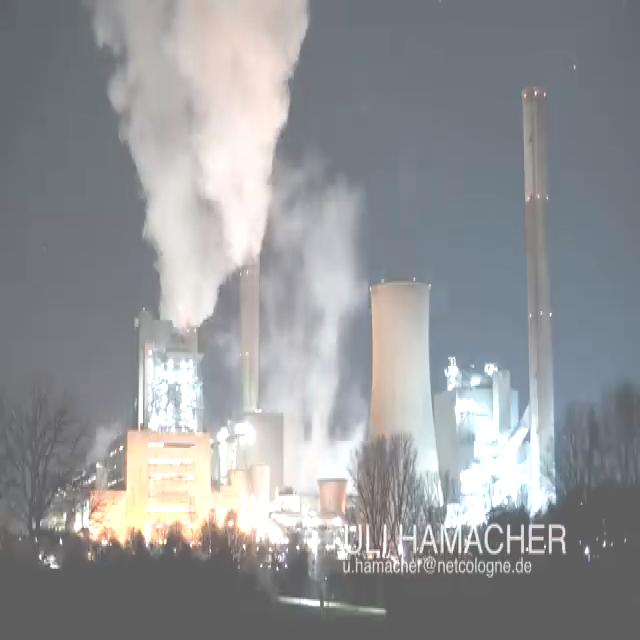smoke: (77, 0, 311, 334)
